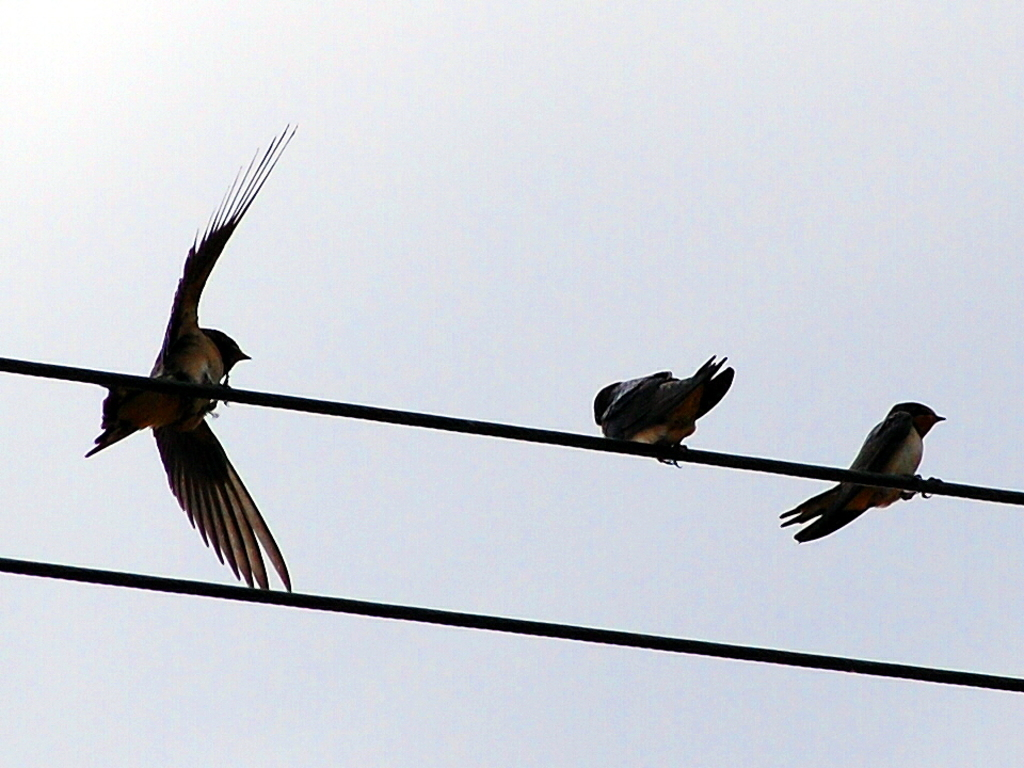Bird: (85, 123, 301, 594), (779, 402, 947, 544), (594, 355, 736, 469)
